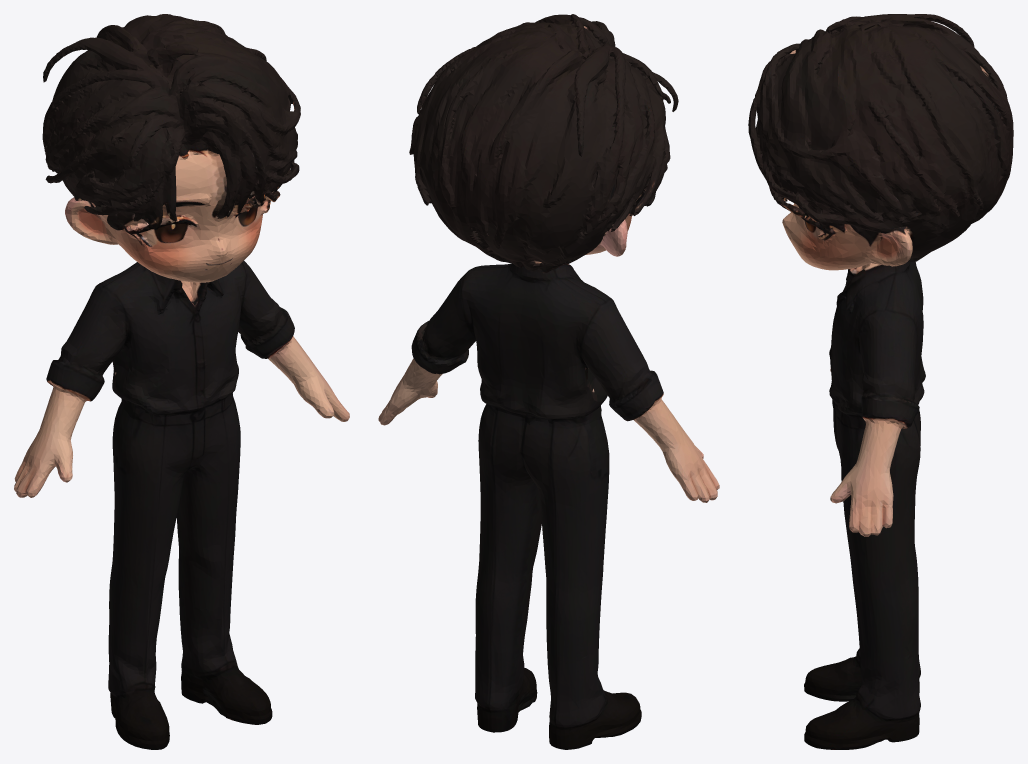
Rendered from zhan.glb.
The picture shows the model from 3 angles, left to right: view 1: azimuth 30°, elevation 25°; view 2: azimuth 150°, elevation 25°; view 3: azimuth 270°, elevation 25°; orthographic projection.
Parts seen in each view (by area): view 1: textured_mesh.obj; view 2: textured_mesh.obj; view 3: textured_mesh.obj.
Part boxes in pixels (<box>): textured_mesh.obj: <box>14,14,349,749</box>; textured_mesh.obj: <box>378,14,719,749</box>; textured_mesh.obj: <box>748,14,1013,749</box>.
Bounding box in the file's own units: 1 × 1.99 × 0.6932.
Materials: 1 (1 with a texture image).
